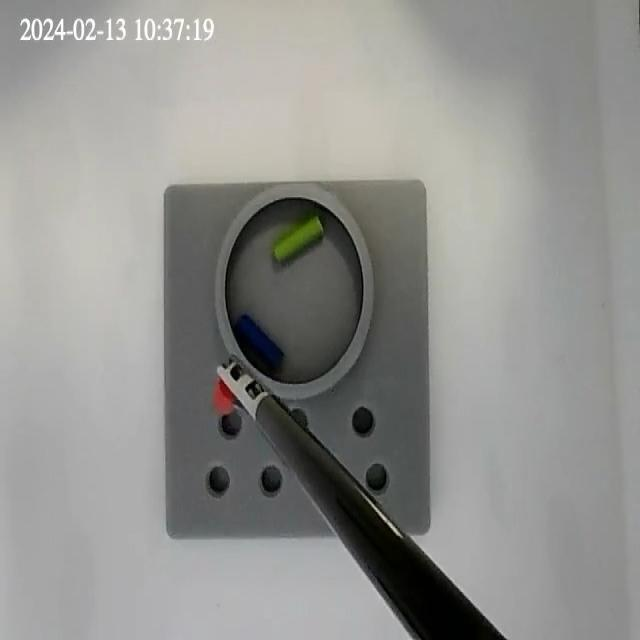EmptyHole: (204, 459, 236, 498), (348, 402, 378, 441), (365, 457, 390, 497), (217, 406, 244, 442), (258, 460, 284, 496), (286, 405, 310, 437)
